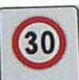limite 30: (9, 13, 67, 70)
